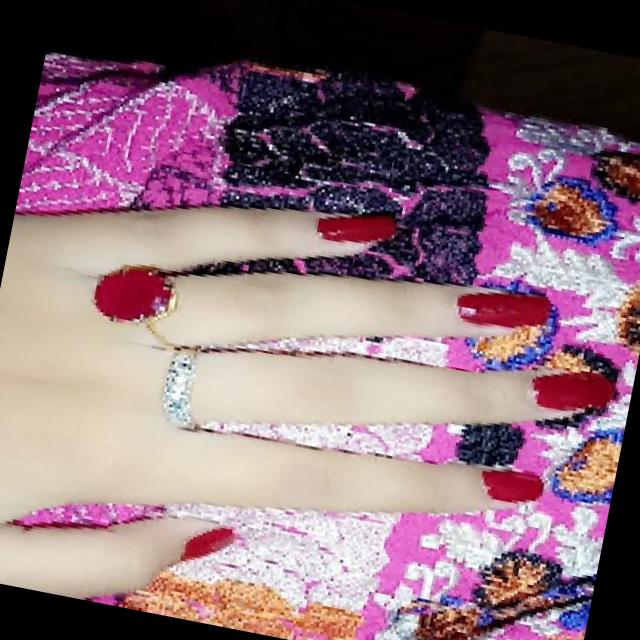Nail: (457, 292, 549, 328), (533, 373, 615, 410), (317, 215, 396, 243), (483, 470, 543, 501), (180, 527, 236, 560)
